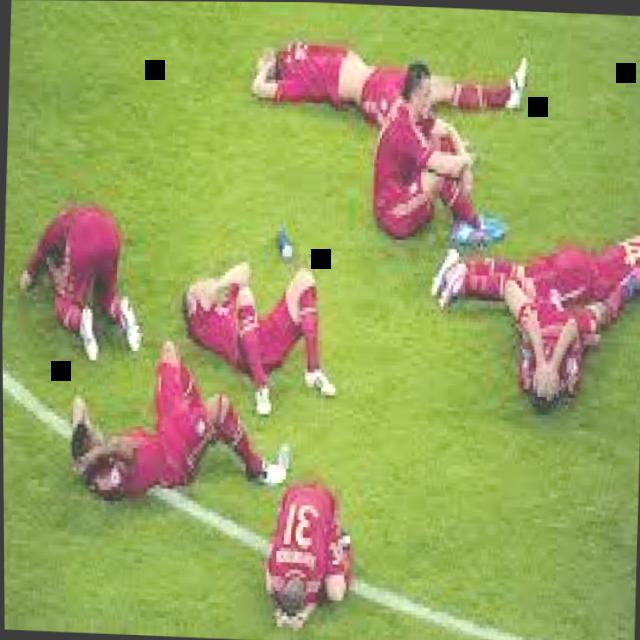Fall-Detected: (429, 182, 640, 339)
